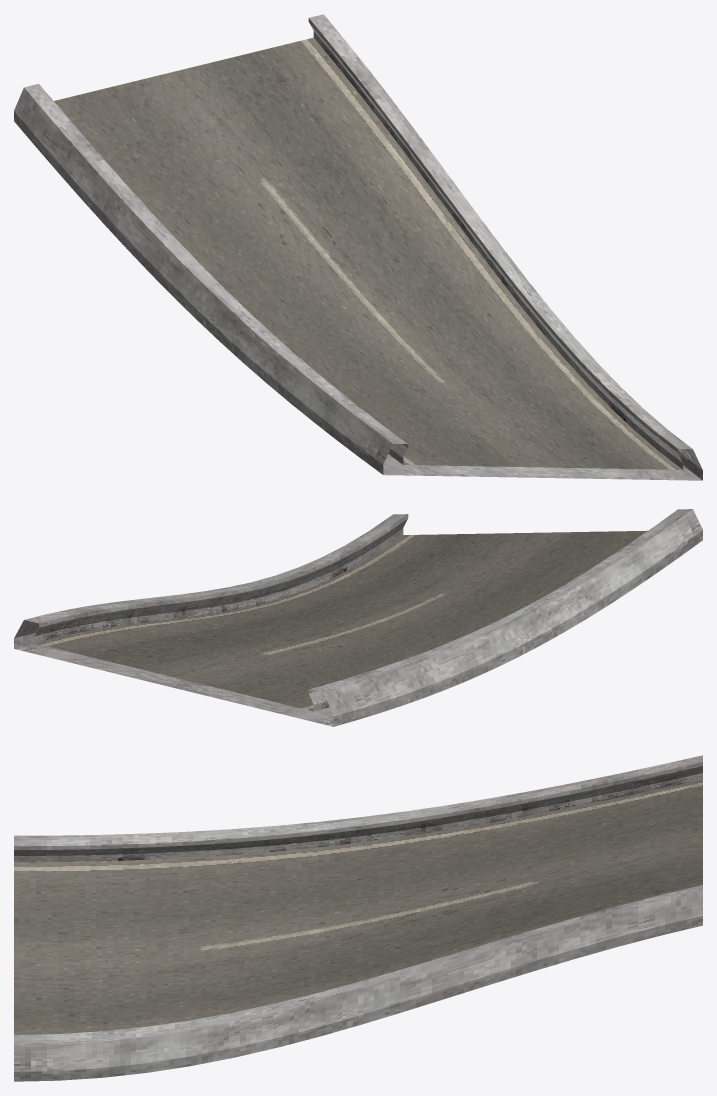
Rendered from road-Straight-HalfBankedRight-BiSlopeUp-Up2-Center-Size2.glb.
3 renders of one model, top to bottom at view 1: azimuth 30°, elevation 25°; view 2: azimuth 150°, elevation 25°; view 3: azimuth 270°, elevation 25°, orthographic. The views are drawn at different scales.
Visible parts, largest first — view 1: road-Straight-HalfBankedRight-BiSlopeUp-Up2-Center-Size2; view 2: road-Straight-HalfBankedRight-BiSlopeUp-Up2-Center-Size2; view 3: road-Straight-HalfBankedRight-BiSlopeUp-Up2-Center-Size2.
Part boxes in pixels (x1,y1,x2,y2): road-Straight-HalfBankedRight-BiSlopeUp-Up2-Center-Size2: (14, 14, 702, 480); road-Straight-HalfBankedRight-BiSlopeUp-Up2-Center-Size2: (14, 509, 702, 726); road-Straight-HalfBankedRight-BiSlopeUp-Up2-Center-Size2: (14, 755, 702, 1081).
Size of the model in its own units: 1 by 0.5937 by 2.
Materials: 2 (2 with a texture image).
